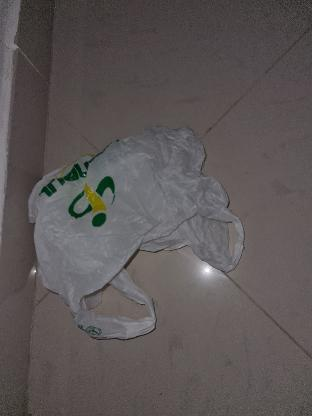Plastic Bag: (26, 124, 246, 340)
